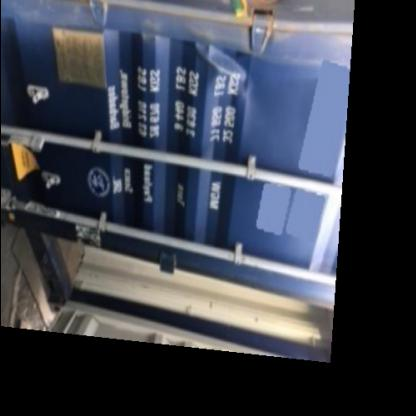Damage: (170, 51, 258, 128)
